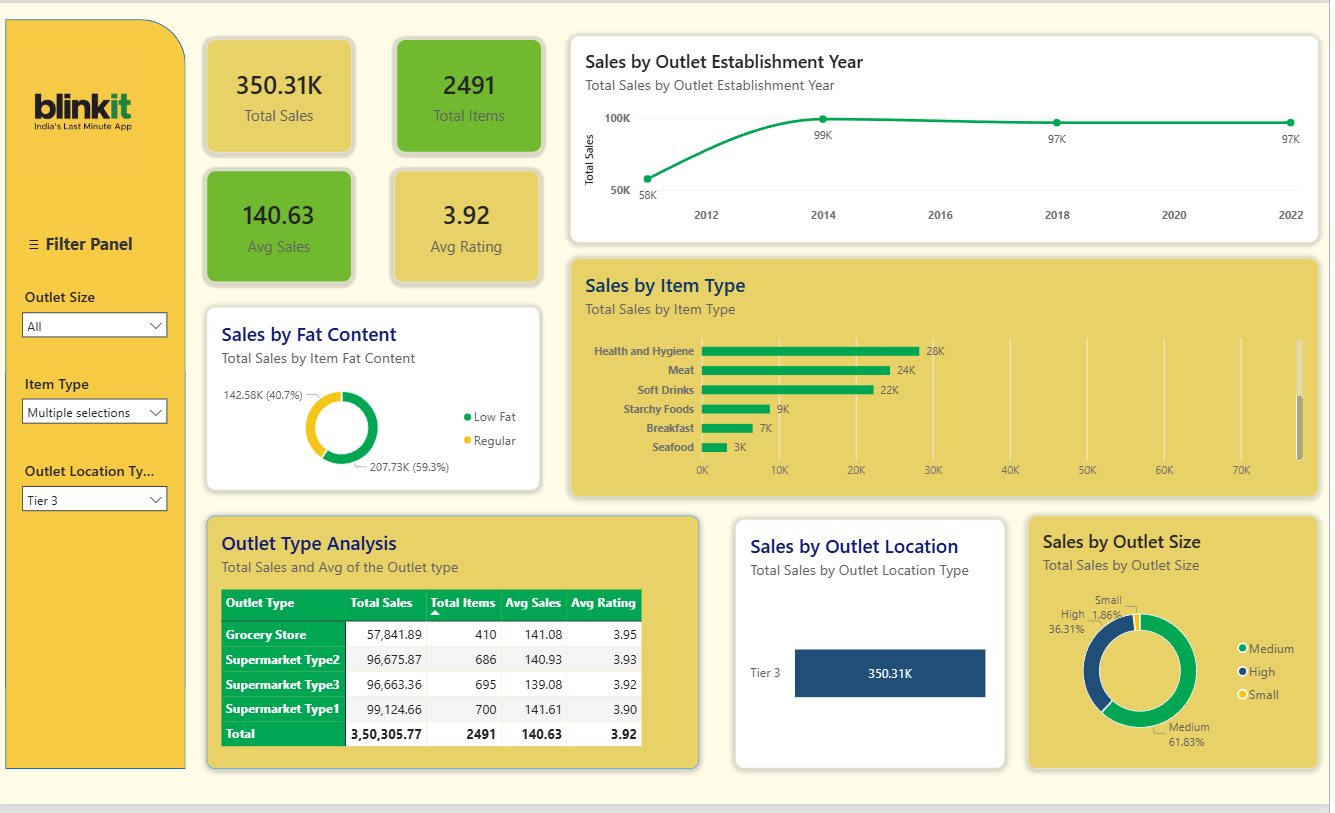

Layout of this report page (visuals, bound fields, positions):
{"tool":"powerbi","page":{"name":"Page 1","canvas":[1500,900],"ordinal":0},"visuals":[{"type":"card","fields":{"Values":["Key Measures.Total Sales"]},"box":[239,41.2,163.2,126.9],"z":0},{"type":"card","fields":{"Values":["Key Measures.Avg Sales"]},"box":[239,187.9,163.2,125.3],"z":1000},{"type":"card","fields":{"Values":["Key Measures.Avg Rating"]},"box":[450,187.9,163.2,125.3],"z":2000},{"type":"card","fields":{"Values":["Key Measures.Total Items"]},"box":[451.6,41.2,163.2,126.9],"z":3000},{"type":"donutChart","title":" Sales by Fat Content","fields":{"Category":["BlinkIT-Grocery-Data.Item Fat Content"],"Y":["Key Measures.Total Sales"]},"box":[239,341.2,374.2,206],"z":4000},{"type":"clusteredBarChart","title":"Sales by Item Type","fields":{"Category":["BlinkIT-Grocery-Data.Item Type"],"Y":["Key Measures.Total Sales"]},"box":[647.8,286.8,840.7,268.7],"z":5000},{"type":"donutChart","title":"Sales by Outlet Size","fields":{"Category":["BlinkIT-Grocery-Data.Outlet Size"],"Y":["Key Measures.Total Sales"]},"box":[1162.1,575.3,326.4,285.2],"z":6000},{"type":"lineChart","title":"Sales by Outlet Establishment Year","fields":{"Category":["BlinkIT-Grocery-Data.Outlet Establishment Year"],"Y":["Key Measures.Total Sales"]},"box":[647.8,36.3,840.7,232.4],"z":7000},{"type":"pivotTable","title":"Outlet Type Analysis","fields":{"Rows":["BlinkIT-Grocery-Data.Outlet Type"],"Values":["Key Measures.Total Sales","Key Measures.Total Items","Key Measures.Avg Sales","Key Measures.Avg Rating"]},"box":[239,575.3,553.8,285.2],"z":8000},{"type":"funnel","title":" Sales by Outlet Location","fields":{"Category":["BlinkIT-Grocery-Data.Outlet Location Type"],"Y":["Key Measures.Total Sales"]},"box":[832.4,580.2,303.3,280.2],"z":12000},{"type":"shape","box":[13.2,18.1,202.7,842.3],"z":12750},{"type":"slicer","fields":{"Values":["BlinkIT-Grocery-Data.Outlet Location Type"]},"box":[26.4,514.3,173.1,65.9],"z":12812},{"type":"slicer","fields":{"Values":["BlinkIT-Grocery-Data.Outlet Size"]},"box":[26.4,318.1,173.1,64.3],"z":12875},{"type":"slicer","fields":{"Values":["BlinkIT-Grocery-Data.Item Type"]},"box":[26.4,415.4,173.1,67.6],"z":13000},{"type":"textbox","box":[25.9,251.2,160.1,35.7],"z":15500},{"type":"image","box":[25.6,42,148.6,161.9],"z":16501}]}

Visuals, with their boxes in screenshot pixels (x1, y1, x2, y2), scaled from the page's 1500x900 canvas onto the 1335x813 screenshot:
card - Key Measures.Total Sales: 213,37,358,152
card - Key Measures.Avg Sales: 213,170,358,283
card - Key Measures.Avg Rating: 400,170,546,283
card - Key Measures.Total Items: 402,37,547,152
" Sales by Fat Content" donutChart: 213,308,546,494
"Sales by Item Type" clusteredBarChart: 577,259,1325,502
"Sales by Outlet Size" donutChart: 1034,520,1325,777
"Sales by Outlet Establishment Year" lineChart: 577,33,1325,243
"Outlet Type Analysis" pivotTable: 213,520,706,777
" Sales by Outlet Location" funnel: 741,524,1011,777
shape: 12,16,192,777
slicer - BlinkIT-Grocery-Data.Outlet Location Type: 23,465,178,524
slicer - BlinkIT-Grocery-Data.Outlet Size: 23,287,178,345
slicer - BlinkIT-Grocery-Data.Item Type: 23,375,178,436
textbox: 23,227,166,259
image: 23,38,155,184
